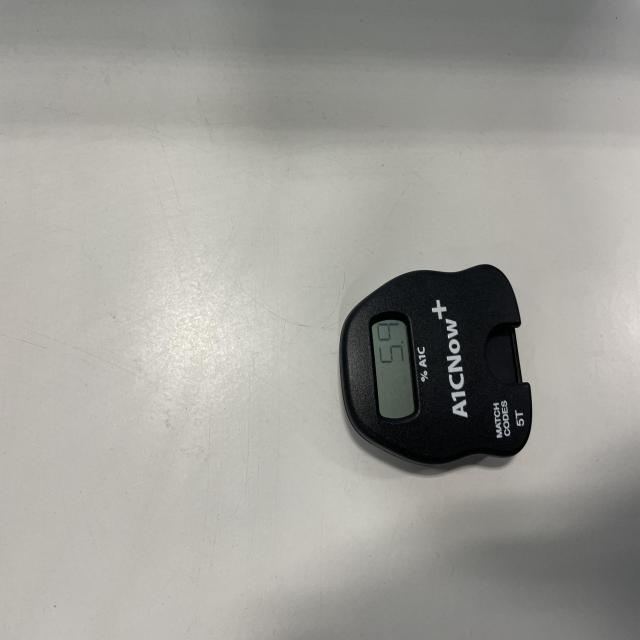hba1c: (338, 265, 533, 469)
